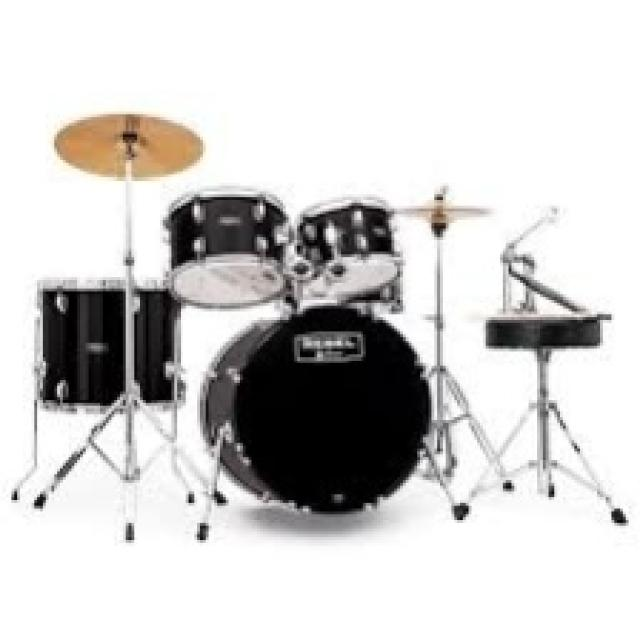drums: (29, 110, 610, 522)
